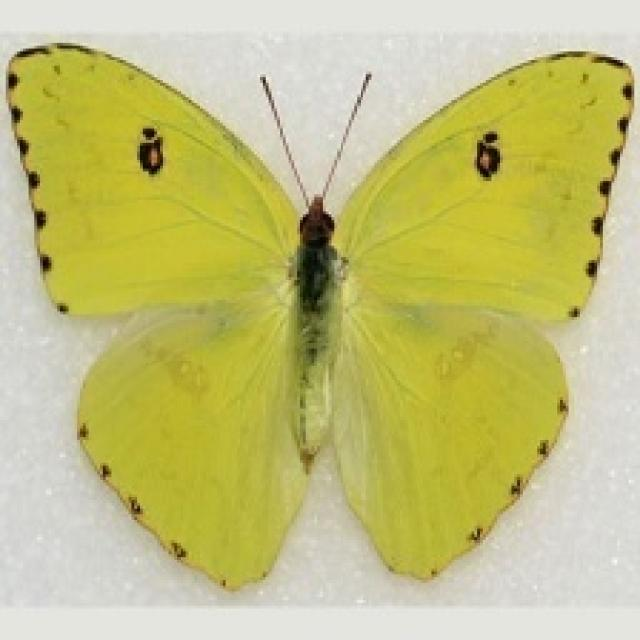butterfly: (3, 37, 634, 589)
